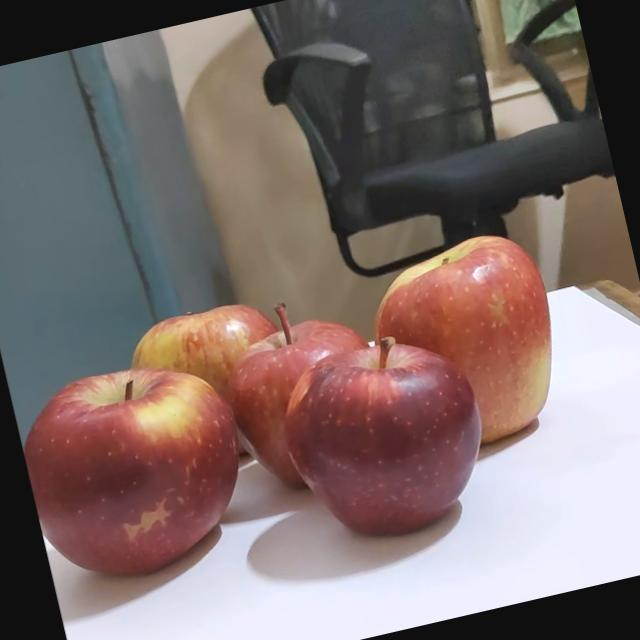apple: (8, 336, 278, 596), (268, 306, 519, 554), (348, 212, 580, 461), (201, 272, 403, 504), (108, 292, 306, 476)
